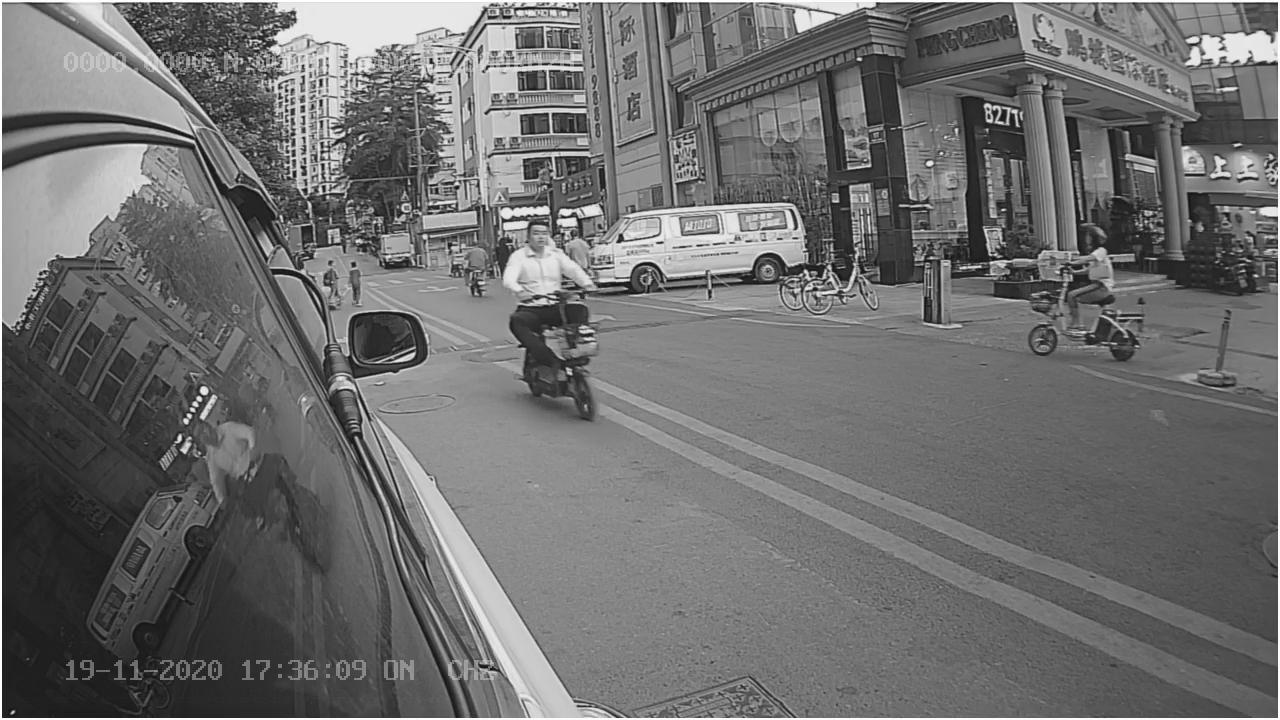person: (504, 215, 593, 293)
